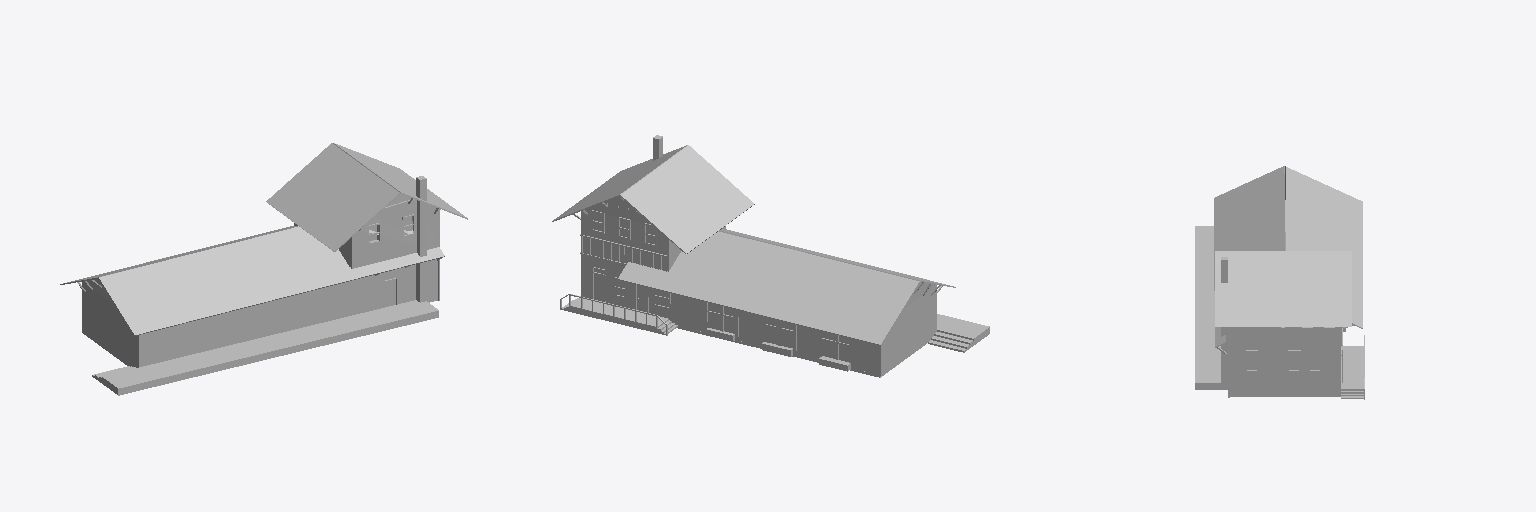
Rendered from Apartment.obj.
3 views of the same model, side by side, from view 1: azimuth 30°, elevation 25°; view 2: azimuth 150°, elevation 25°; view 3: azimuth 270°, elevation 25° (orthographic).
Visible parts, largest first — view 1: group[number redacted], group[number redacted], group[number redacted], group[number redacted], group[number redacted], group[number redacted], group[number redacted], group[number redacted], group[number redacted]; view 2: group[number redacted], group[number redacted], group[number redacted], group[number redacted], group[number redacted], group[number redacted], group[number redacted], group[number redacted]; view 3: group[number redacted], group[number redacted], group[number redacted], group[number redacted], group[number redacted], group[number redacted], group[number redacted].
Part boxes in pixels (x1,y1,x2,y2): group[number redacted]: (99,226,444,335); group[number redacted]: (137,259,437,367); group[number redacted]: (92,300,438,395); group[number redacted]: (266,143,400,251); group[number redacted]: (294,194,439,268); group[number redacted]: (82,279,436,367); group[number redacted]: (333,143,467,219); group[number redacted]: (416,176,426,302); group[number redacted]: (60,226,297,284); group[number redacted]: (618,231,919,345); group[number redacted]: (581,254,936,375); group[number redacted]: (620,145,754,253); group[number redacted]: (581,196,725,271); group[number redacted]: (552,145,687,221); group[number redacted]: (561,298,677,334); group[number redacted]: (928,314,989,352); group[number redacted]: (719,229,955,287); group[number redacted]: (1215,251,1351,326); group[number redacted]: (1285,166,1362,328); group[number redacted]: (1214,166,1285,347); group[number redacted]: (1230,346,1340,394); group[number redacted]: (1195,226,1227,389); group[number redacted]: (1226,327,1341,345); group[number redacted]: (1341,346,1363,398).
Size of the model in its own units: 6.95 by 2.39 by 2.84.